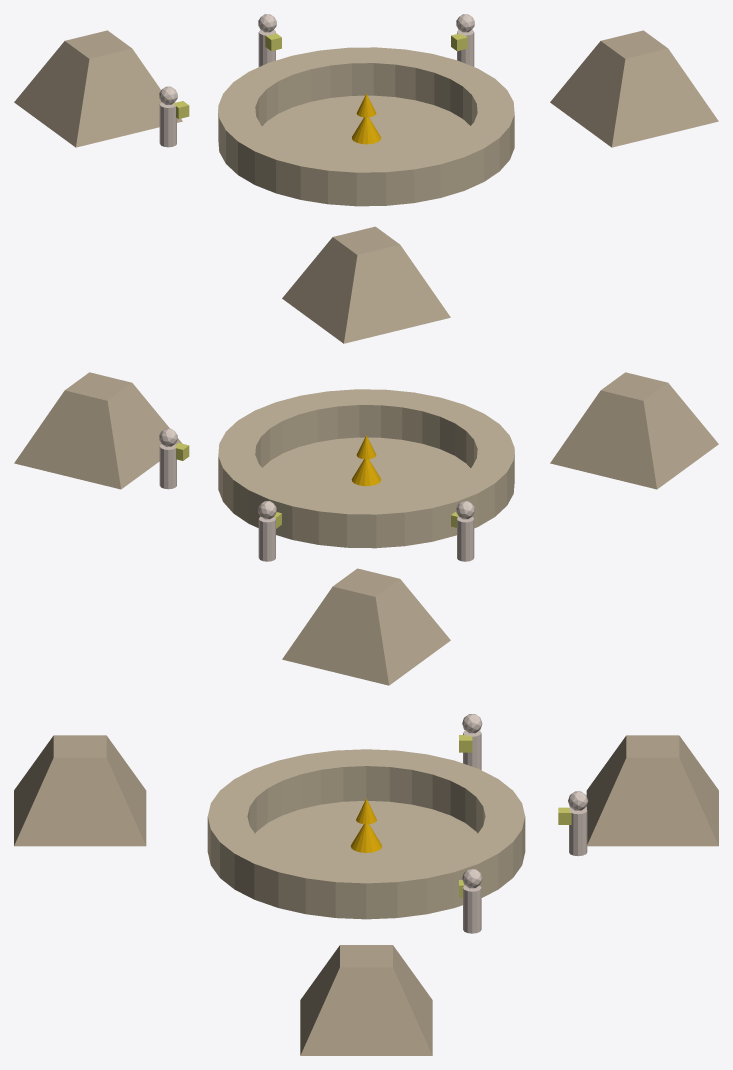
The model's file is caral_sociedad.glb.
3 views of the same model, one above another, from view 1: azimuth 30°, elevation 25°; view 2: azimuth 150°, elevation 25°; view 3: azimuth 270°, elevation 25° (orthographic). The views are drawn at different scales.
Visible parts, largest first — view 1: Temples, Ring, GroundDisk, People, Flame, Offerings; view 2: Temples, Ring, GroundDisk, People, Flame; view 3: Temples, Ring, GroundDisk, People, Flame, Offerings.
Part boxes in pixels (x1,y1,x2,y2): Temples: (14, 30, 718, 343); Ring: (218, 47, 514, 206); GroundDisk: (262, 95, 470, 156); People: (159, 14, 474, 147); Flame: (352, 93, 380, 144); Offerings: (173, 33, 467, 119); Temples: (14, 372, 718, 685); Ring: (218, 389, 514, 548); GroundDisk: (262, 437, 470, 498); People: (159, 428, 474, 561); Flame: (351, 435, 381, 486); Temples: (14, 735, 718, 1055); Ring: (207, 749, 525, 919); GroundDisk: (255, 801, 477, 866); People: (462, 714, 588, 933); Flame: (350, 798, 382, 852); Offerings: (459, 735, 571, 897).
Bounding box in the file's own units: 4.75 × 0.804 × 5.33.
